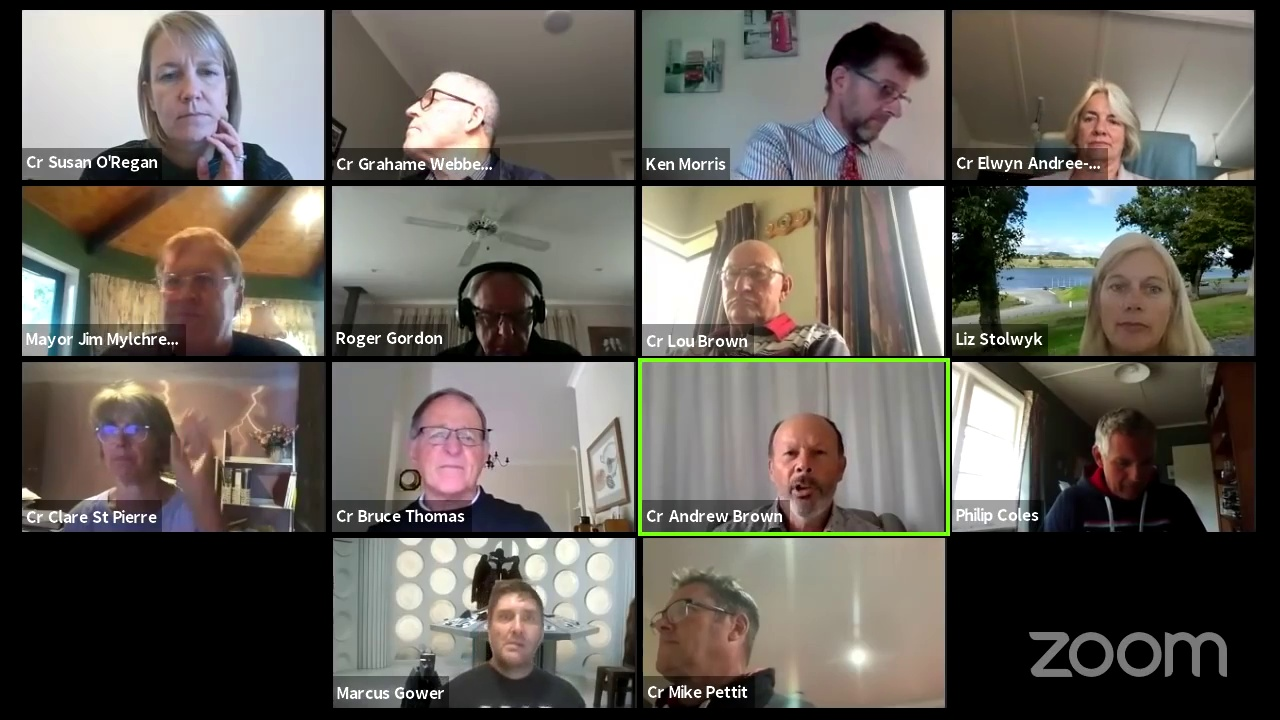Distracted: (820, 29, 925, 143), (647, 579, 754, 671), (395, 73, 502, 161), (447, 264, 549, 353), (1086, 410, 1171, 498)
Not Distracted: (136, 23, 235, 142), (1093, 250, 1188, 347), (408, 394, 499, 494), (157, 235, 239, 338), (708, 234, 790, 321), (771, 414, 838, 520), (93, 393, 171, 484), (488, 582, 547, 673), (1063, 83, 1129, 156)
